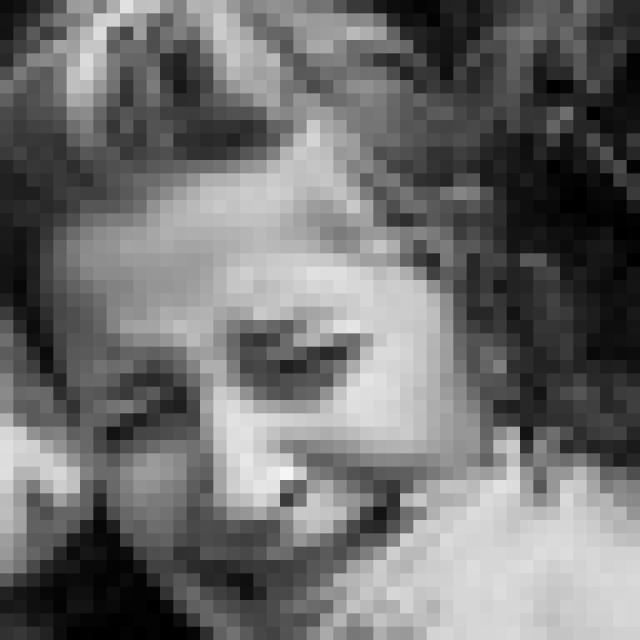sad: (91, 295, 424, 629)
